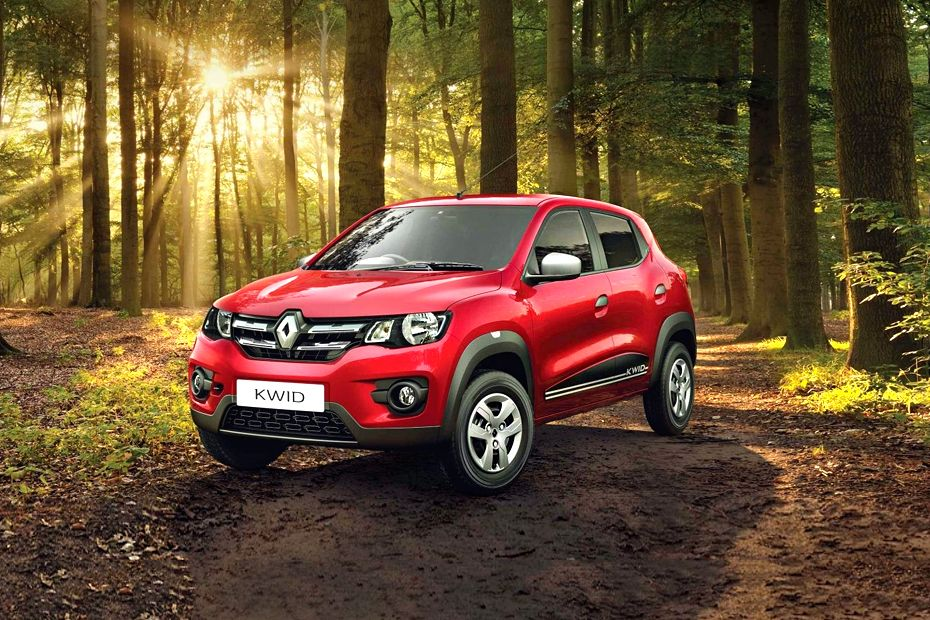Car: (184, 185, 704, 500)
